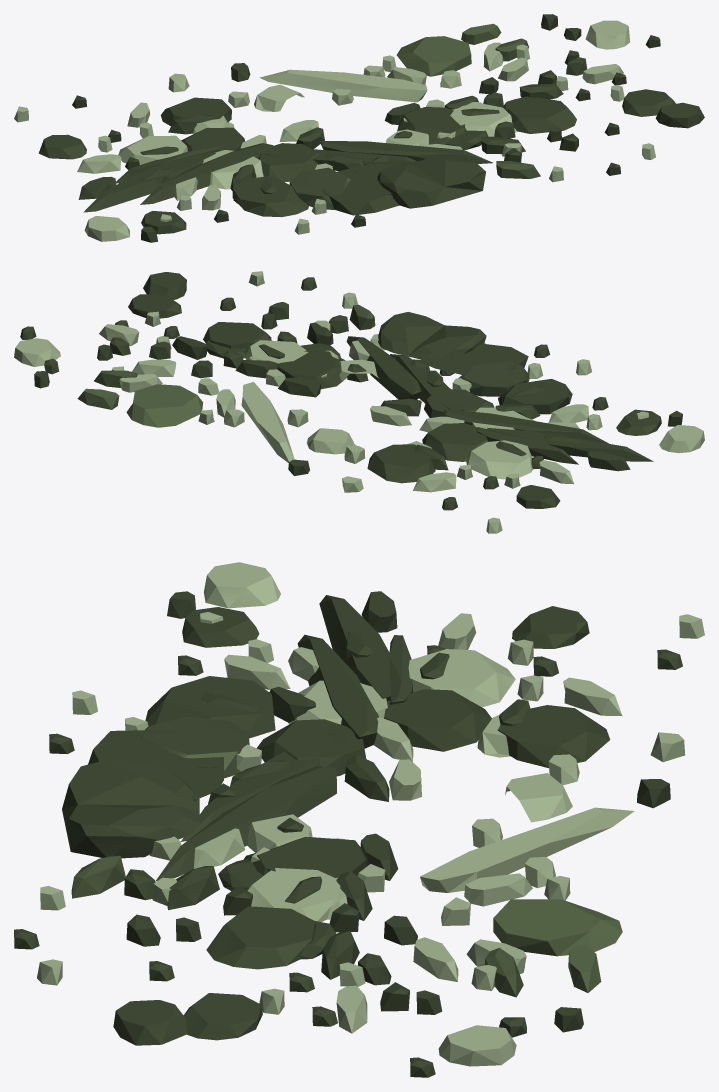
File: EA_Swamp_StonesMud_04d.glb
3 views of the same model, one above another, from view 1: azimuth 30°, elevation 25°; view 2: azimuth 150°, elevation 25°; view 3: azimuth 270°, elevation 25° (orthographic). The views are drawn at different scales.
Parts seen in each view (by area): view 1: EA_Swamp_StonesMud_04d; view 2: EA_Swamp_StonesMud_04d; view 3: EA_Swamp_StonesMud_04d.
Part boxes in pixels (bbox=[...]): EA_Swamp_StonesMud_04d: bbox=[14, 14, 704, 242]; EA_Swamp_StonesMud_04d: bbox=[14, 271, 704, 533]; EA_Swamp_StonesMud_04d: bbox=[14, 562, 704, 1077].
Size of the model in its own units: 9.41 by 0.2684 by 5.49.
Materials: 1 (1 with a texture image).
